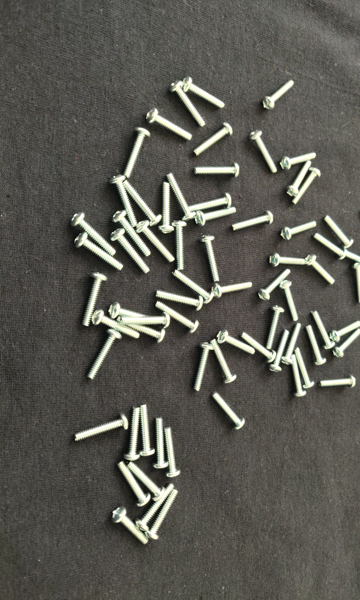longscrew: (69, 211, 118, 257), (74, 231, 124, 272), (134, 483, 175, 532), (86, 328, 123, 382), (110, 228, 151, 276), (111, 210, 152, 257), (123, 180, 163, 228), (168, 80, 207, 127), (145, 489, 179, 541), (115, 461, 152, 508), (136, 220, 175, 264), (74, 413, 130, 443), (146, 108, 193, 143), (126, 461, 166, 502), (166, 172, 198, 223), (109, 174, 139, 227), (81, 272, 109, 328), (111, 506, 149, 547), (172, 269, 215, 305), (155, 300, 200, 334), (91, 309, 140, 340), (181, 76, 225, 109), (193, 122, 233, 158), (124, 126, 151, 179), (117, 316, 167, 344), (211, 391, 246, 431), (248, 130, 278, 173), (240, 331, 278, 364), (291, 166, 322, 206), (210, 340, 238, 384), (322, 214, 355, 250), (258, 269, 292, 302), (216, 328, 256, 356), (193, 342, 215, 392), (155, 290, 204, 312), (262, 79, 295, 111), (199, 235, 221, 283), (311, 309, 336, 351), (312, 232, 348, 261), (186, 192, 233, 214), (292, 347, 316, 390), (123, 406, 141, 462), (287, 159, 313, 197), (232, 210, 274, 233), (305, 254, 336, 285), (157, 182, 175, 235), (268, 330, 290, 373), (305, 325, 328, 366), (108, 302, 152, 323), (152, 416, 169, 470), (282, 323, 303, 366), (194, 206, 237, 227), (139, 404, 156, 457), (171, 220, 188, 271), (120, 311, 171, 328), (279, 280, 299, 323), (266, 305, 285, 350), (193, 162, 240, 180), (333, 328, 360, 359), (165, 427, 181, 479), (211, 281, 253, 300), (281, 220, 317, 241), (291, 354, 307, 398), (280, 152, 317, 171), (330, 321, 360, 343), (318, 375, 358, 390), (269, 252, 306, 267), (345, 249, 360, 272), (352, 263, 360, 304)
